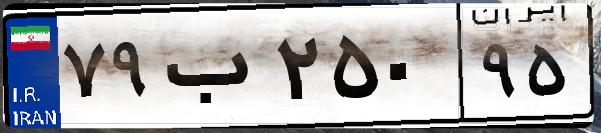0: (385, 28, 445, 110)
2: (270, 28, 330, 110)
5: (330, 28, 385, 110), (525, 38, 570, 115)
7: (57, 26, 110, 100)
9: (475, 38, 525, 113), (110, 28, 158, 98)
ب: (158, 20, 270, 120)
